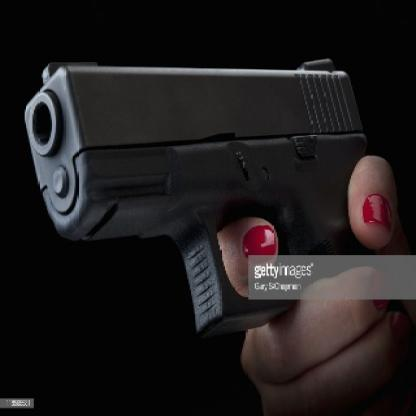handgun: (23, 49, 378, 325)
